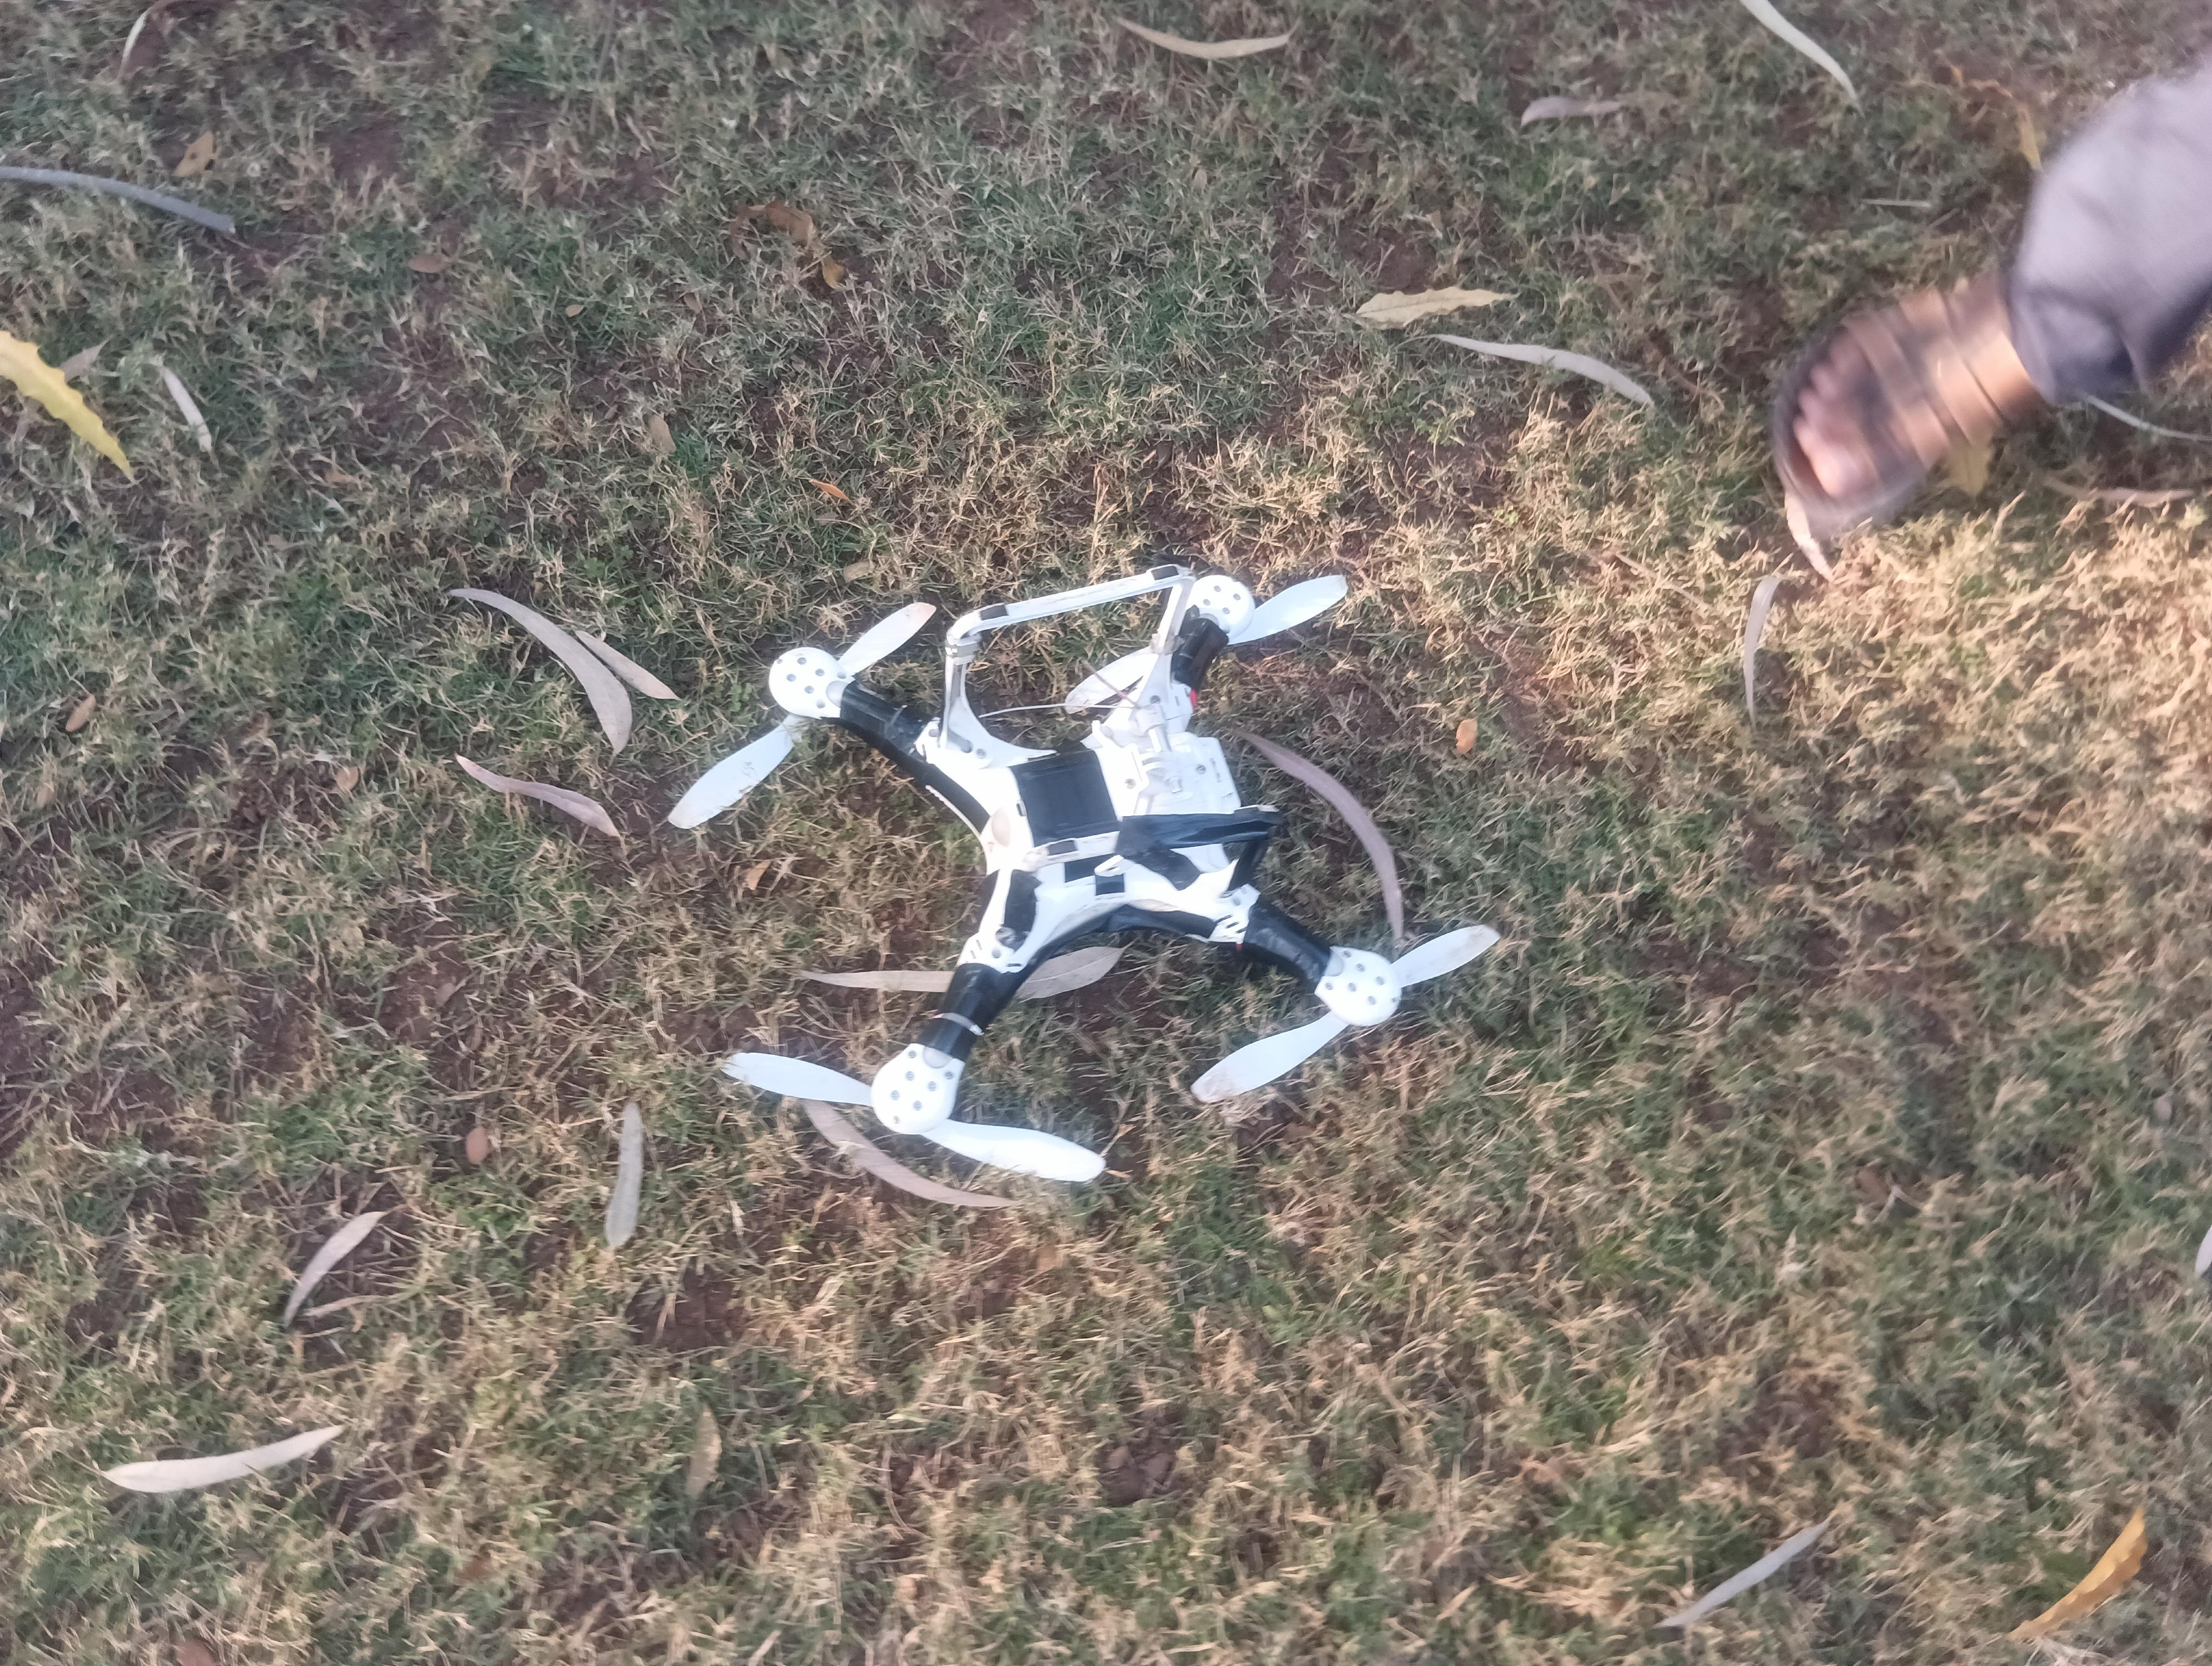drone: (575, 527, 1490, 1220)
